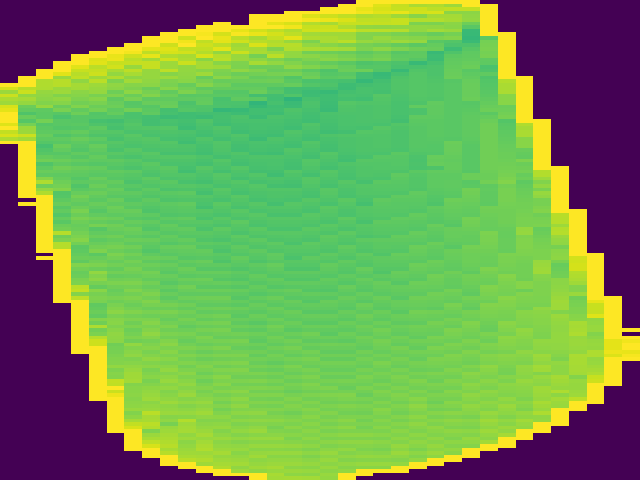cylinder: (2, 3, 640, 480)
